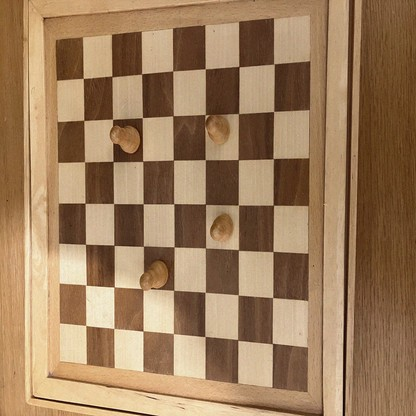pawn_white: (141, 259, 169, 289), (111, 127, 140, 152), (207, 117, 230, 145), (211, 213, 234, 241)
